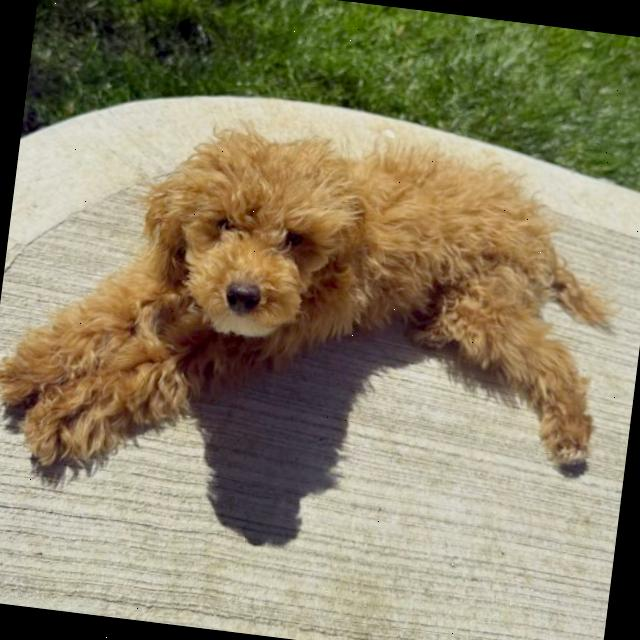Poodle_dog: (121, 100, 405, 366)
